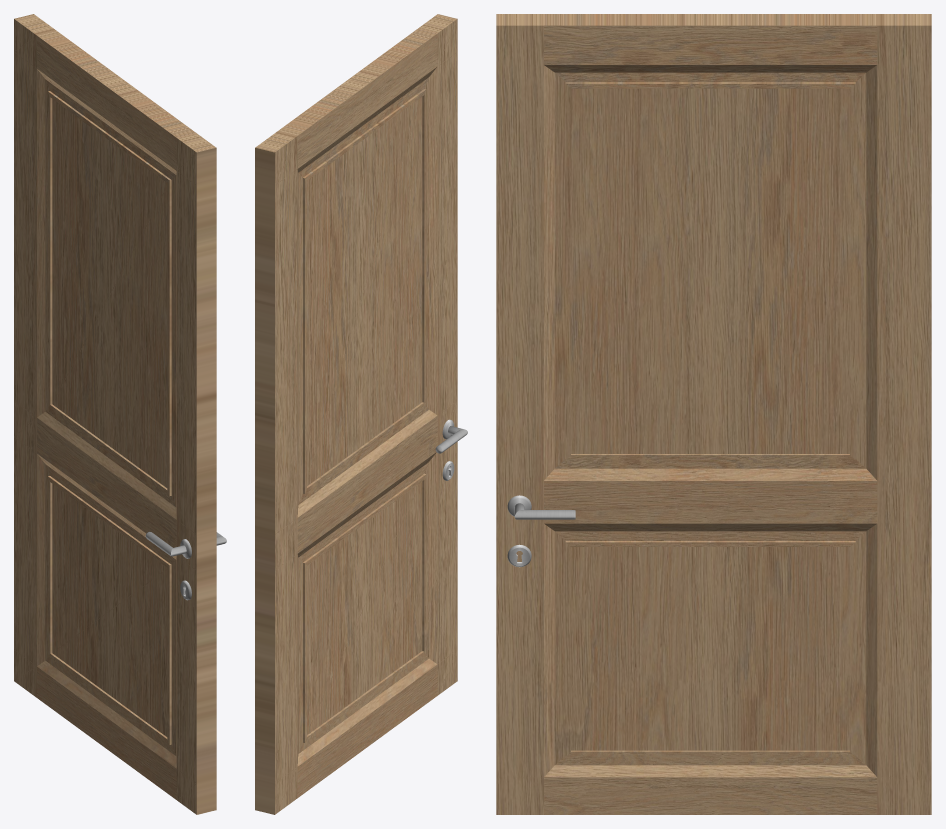
The model's file is portecachee.glb.
3 views of the same model, side by side, from view 1: azimuth 30°, elevation 25°; view 2: azimuth 150°, elevation 25°; view 3: azimuth 270°, elevation 25° (orthographic). The views are drawn at different scales.
Visible parts, largest first — view 1: portecachee; view 2: portecachee; view 3: portecachee.
Boxes of the visible parts, bbox=[...] form: portecachee: bbox=[14, 14, 226, 814]; portecachee: bbox=[255, 14, 467, 814]; portecachee: bbox=[496, 14, 931, 814].
Bounding box in the file's own units: 0.2108 × 2.38 × 1.19.
Materials: 2 (2 with a texture image).
